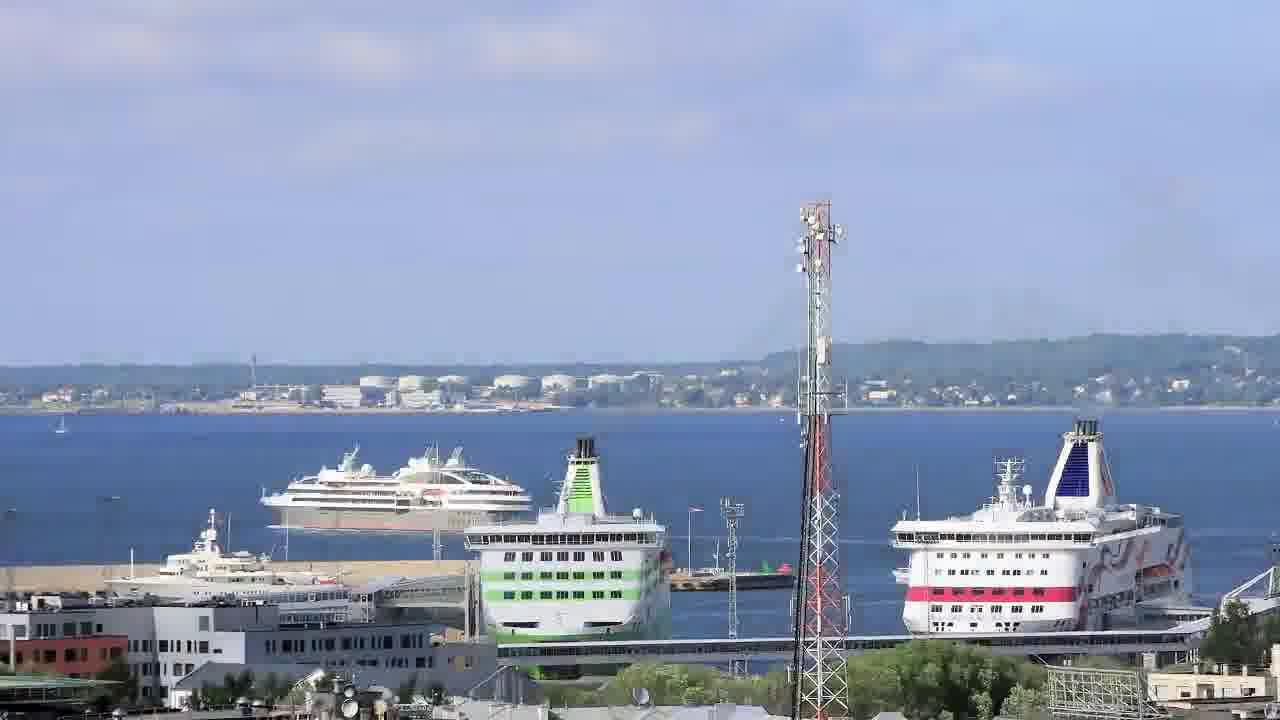type-2: (47, 407, 78, 446)
type-3: (868, 415, 1225, 638), (436, 434, 694, 670), (254, 450, 538, 543), (84, 511, 353, 609)
